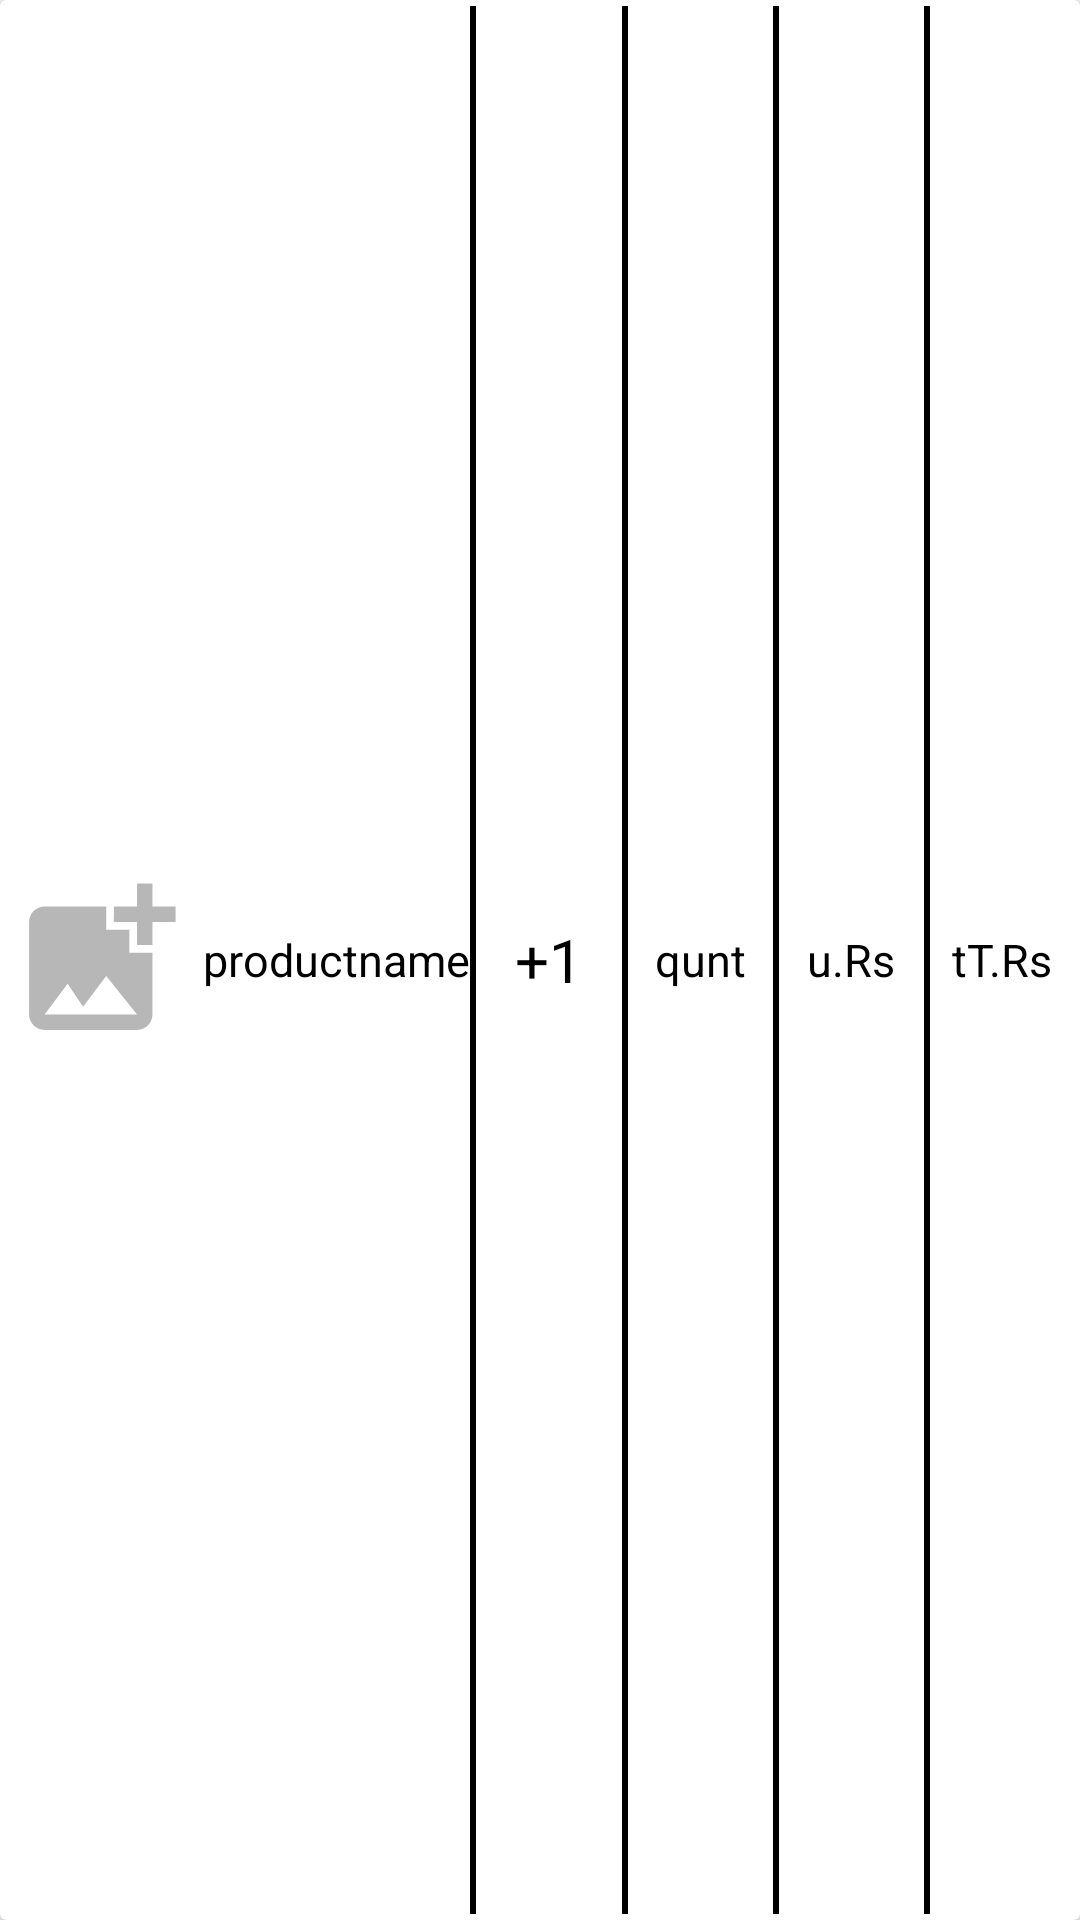

Icon click points for this 1080*1920 phone screenshot, format point (x, y):
addphoto: point (102, 956)
